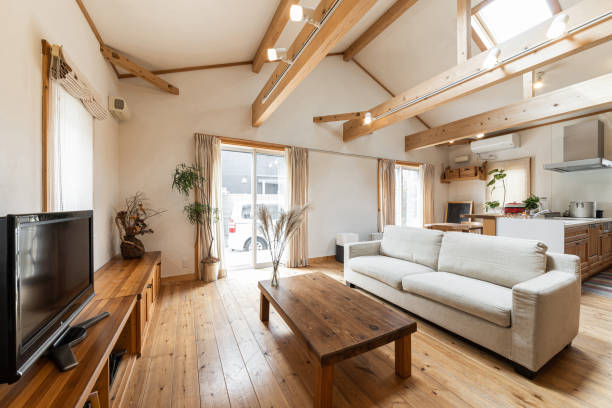TV: (3, 208, 112, 384)
TV stand: (1, 250, 160, 407)
flower vase: (254, 200, 310, 290)
large plant: (169, 162, 222, 283)
sofa: (340, 219, 586, 377)
table: (258, 270, 418, 407)
